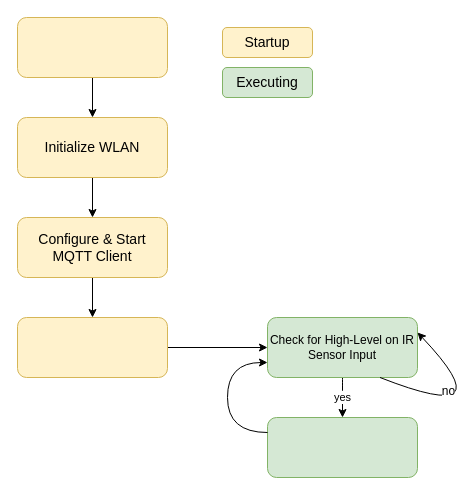
Image size: 474x495. Some labels were removed from this diagram. Here are the shapes that lost their labels. From the top down, the centre of each, then its label:
the point at 92,47: Start in main
the point at 92,347: Configure Input from IR Sensor
the point at 342,447: Publish "irsensor on" to Topic /topic/magicmirror/irsensor
